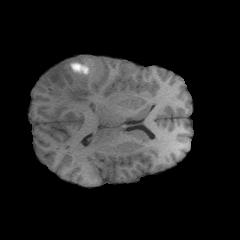glioma: (44, 58, 104, 104)
